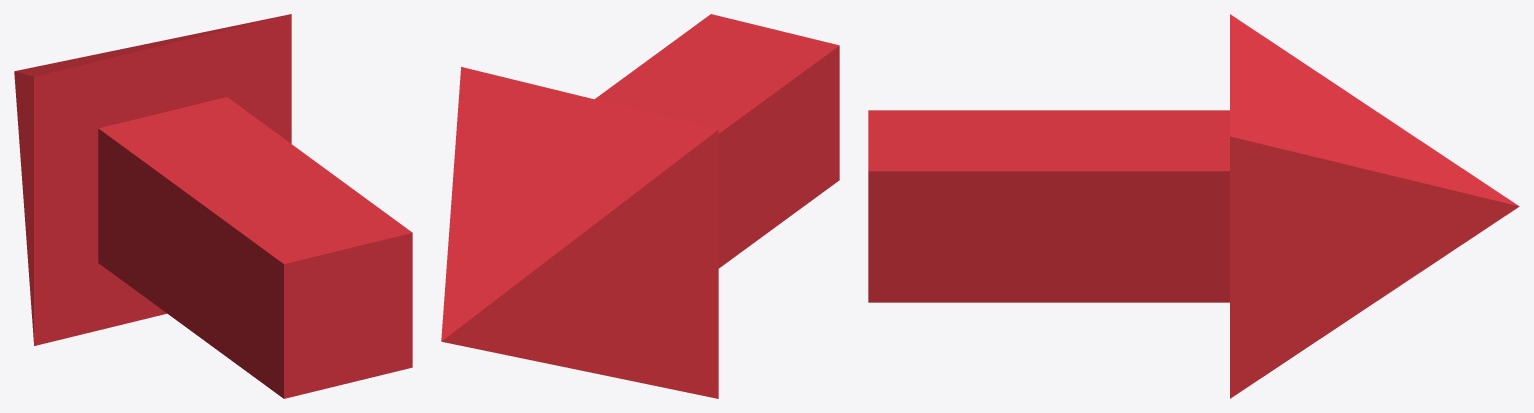
Rendered from 矢印改.fbx.
3 views of the same model, side by side, from view 1: azimuth 30°, elevation 25°; view 2: azimuth 150°, elevation 25°; view 3: azimuth 270°, elevation 25° (orthographic). The views are drawn at different scales.
Parts seen in each view (by area): view 1: Cube; view 2: Cube; view 3: Cube.
Part boxes in pixels (bbox=[...]): Cube: bbox=[14, 14, 412, 398]; Cube: bbox=[441, 14, 839, 398]; Cube: bbox=[868, 14, 1519, 398].
Size of the model in its own units: 400 by 400 by 899.
